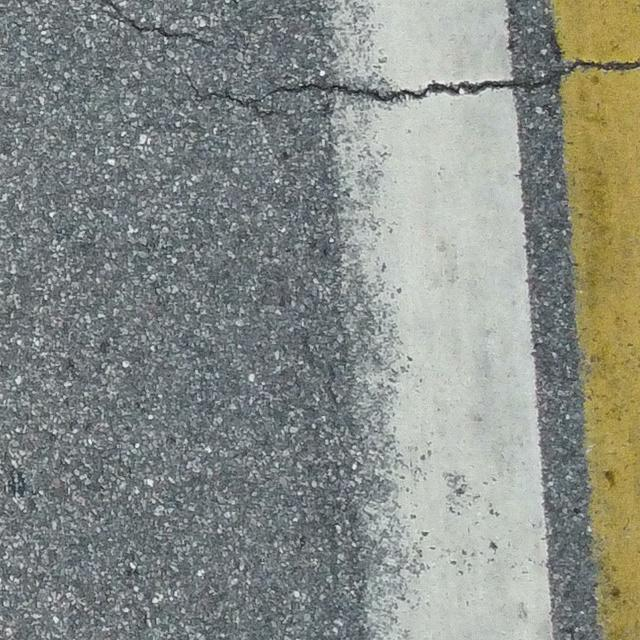TransverseCrack: (173, 55, 640, 109), (100, 1, 214, 45)
